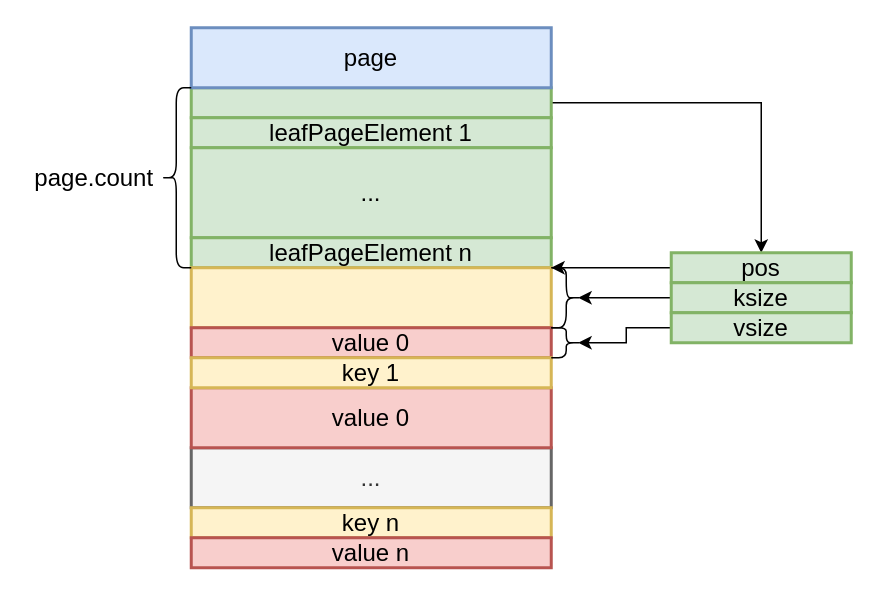
Image size: 878x594. Some labels were removed from this diagram. Each missing label, with the centre of its shape:
"key 0" goes at (x=370, y=297).
"leafPageElement 0" goes at (x=370, y=102).
